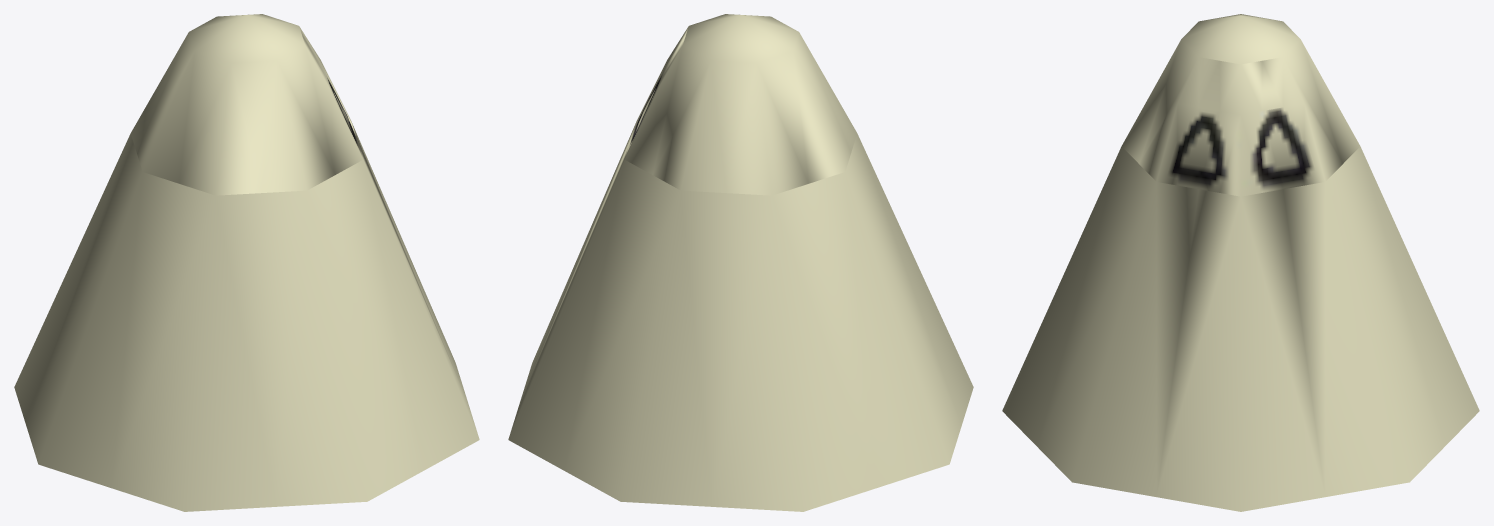
Rendered from hill6.dae.
The picture shows the model from 3 angles, left to right: view 1: azimuth 30°, elevation 25°; view 2: azimuth 150°, elevation 25°; view 3: azimuth 270°, elevation 25°; orthographic projection.
Visible parts, largest first — view 1: Circle.001; view 2: Circle.001; view 3: Circle.001.
Part boxes in pixels (x1,y1,x2,y2): Circle.001: (14,14,479,511); Circle.001: (508,14,973,511); Circle.001: (1002,14,1479,511).
Size of the model in its own units: 2.1 by 2.1 by 1.92.
Materials: 1 (1 with a texture image).
